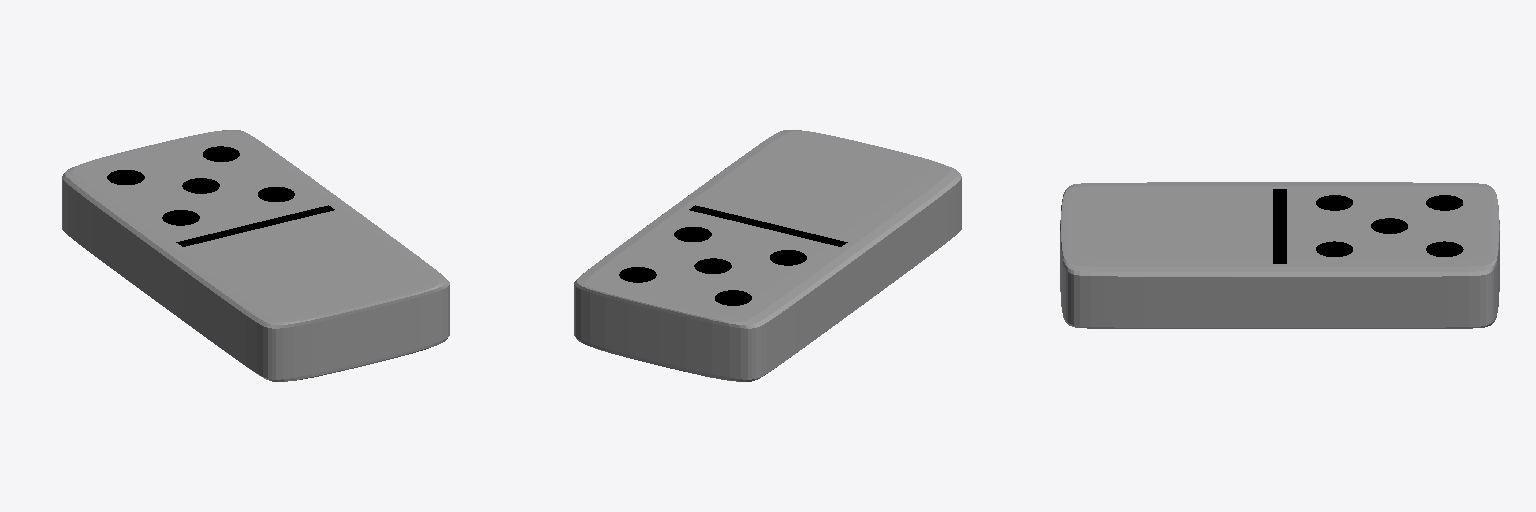
The picture shows the model from 3 angles: view 1: azimuth 30°, elevation 25°; view 2: azimuth 150°, elevation 25°; view 3: azimuth 270°, elevation 25°; orthographic projection.
Parts seen in each view (by area): view 1: Domino_1-5_Cube.008; view 2: Domino_1-5_Cube.008; view 3: Domino_1-5_Cube.008.
Part boxes in pixels (left/top/right/bottom): Domino_1-5_Cube.008: left=62, top=130, right=449, bottom=381; Domino_1-5_Cube.008: left=574, top=130, right=961, bottom=381; Domino_1-5_Cube.008: left=1060, top=182, right=1499, bottom=328.
Size of the model in its own units: 2 by 0.5993 by 3.99.